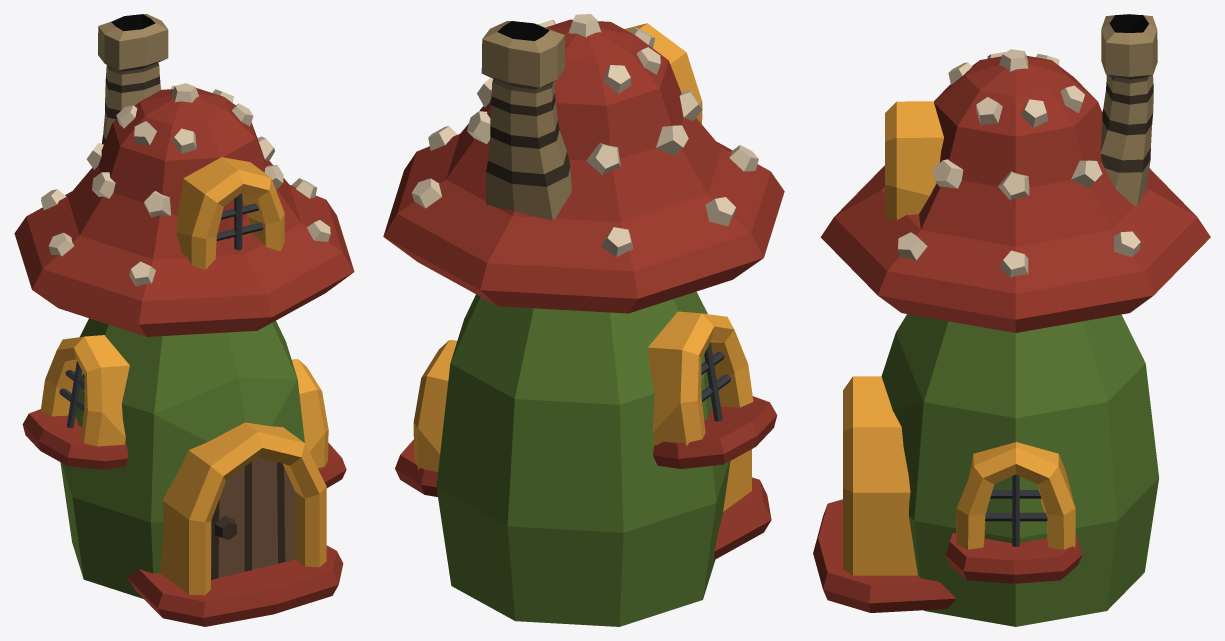
File: SM_Prop_MushroomHouse_01.fbx
The picture shows the model from 3 angles, left to right: view 1: azimuth 30°, elevation 25°; view 2: azimuth 150°, elevation 25°; view 3: azimuth 270°, elevation 25°; orthographic projection. The views are drawn at different scales.
Parts seen in each view (by area): view 1: SM_Prop_MushroomHouse_01; view 2: SM_Prop_MushroomHouse_01; view 3: SM_Prop_MushroomHouse_01.
Boxes of the visible parts, x1,y1,x2,y2 form: SM_Prop_MushroomHouse_01: (14,14,354,626); SM_Prop_MushroomHouse_01: (383,14,784,626); SM_Prop_MushroomHouse_01: (813,14,1210,626).
Size of the model in its own units: 38.24 by 59.3 by 38.98.
1 material, 1 textured.
